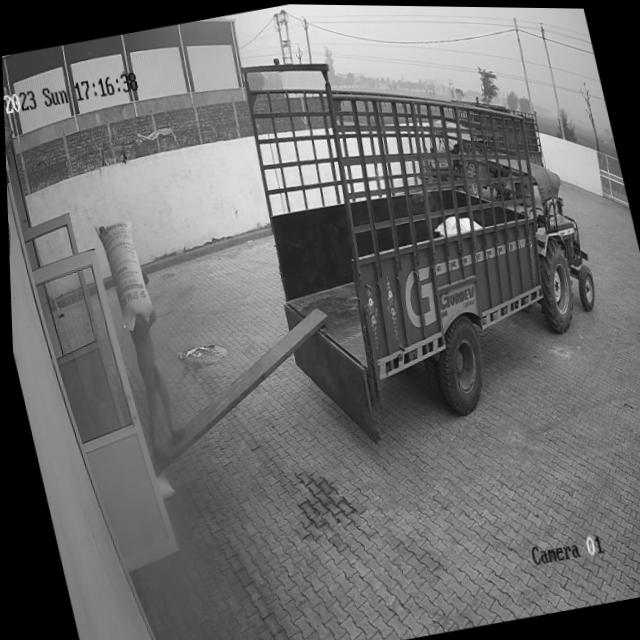sack: (92, 218, 154, 333)
